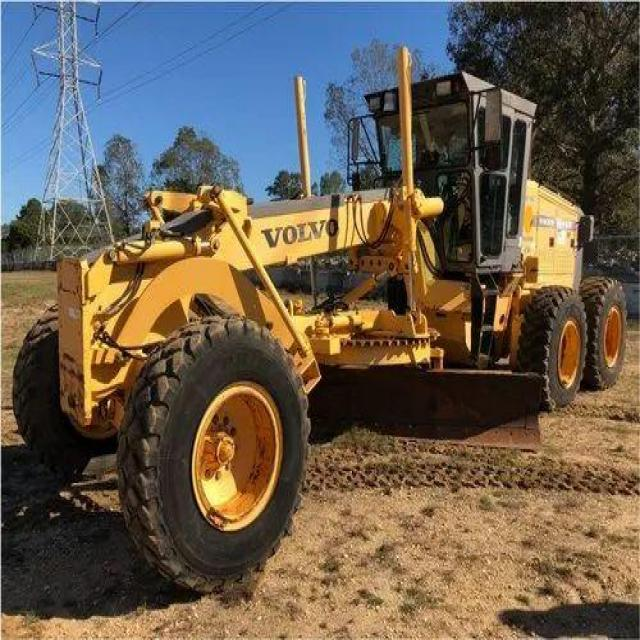Grader: (30, 39, 636, 592)
